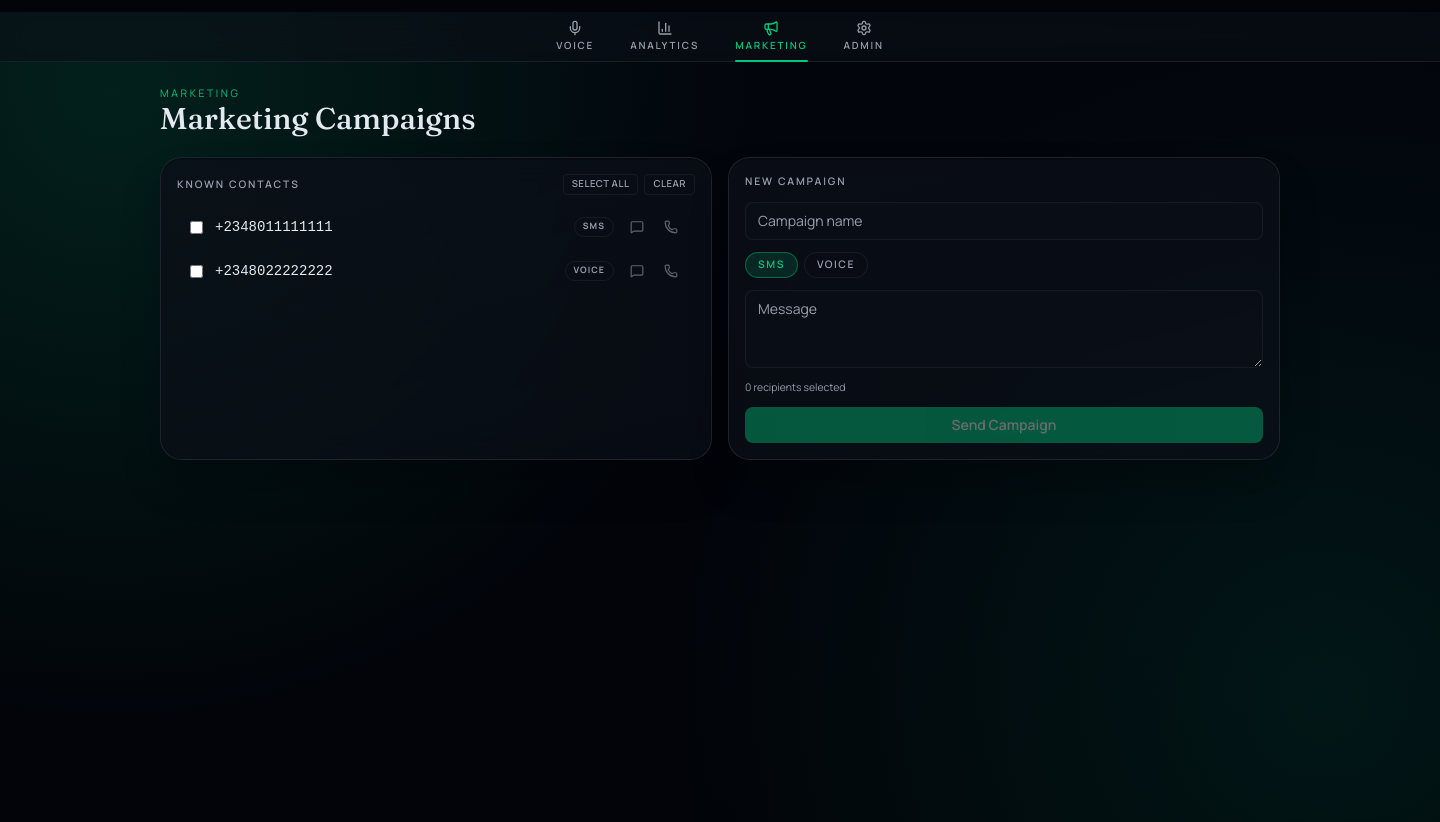
Test: MarketingDashboard › Clear deselects all contacts
Expected: the text "+2348011111111" is shown, [215,219,333,235]
What coordinates should you click on to do the following:
click the button "Select All"
I would click on:
 (601, 185)
Its box is [563,174,638,195].
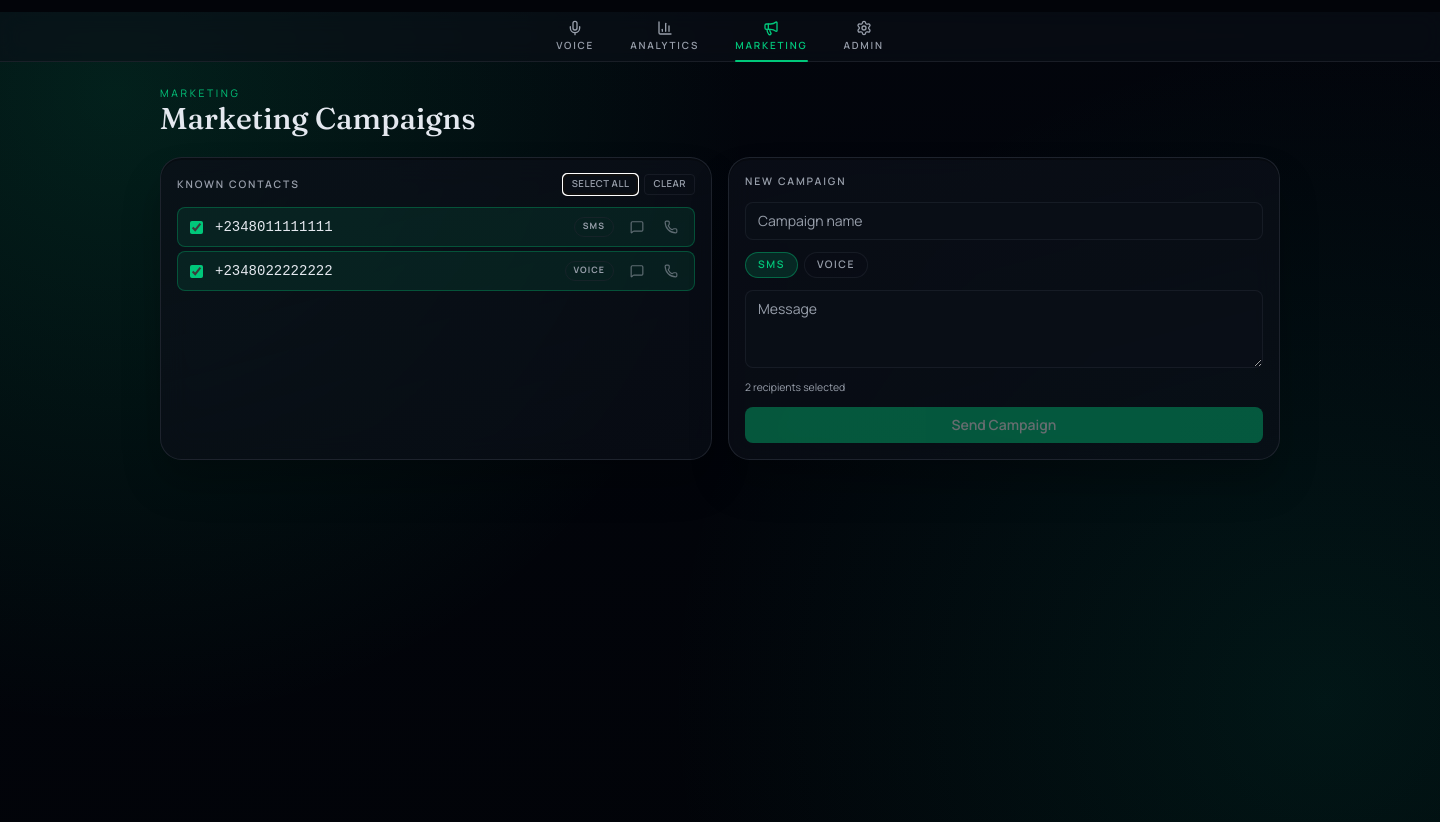
Now the text "2 recipients selected" is shown, box [745,380,845,394]
What coordinates should you click on to do the following:
click the button "Clear"
I would click on:
 (670, 185)
Its box is [644,174,695,195].
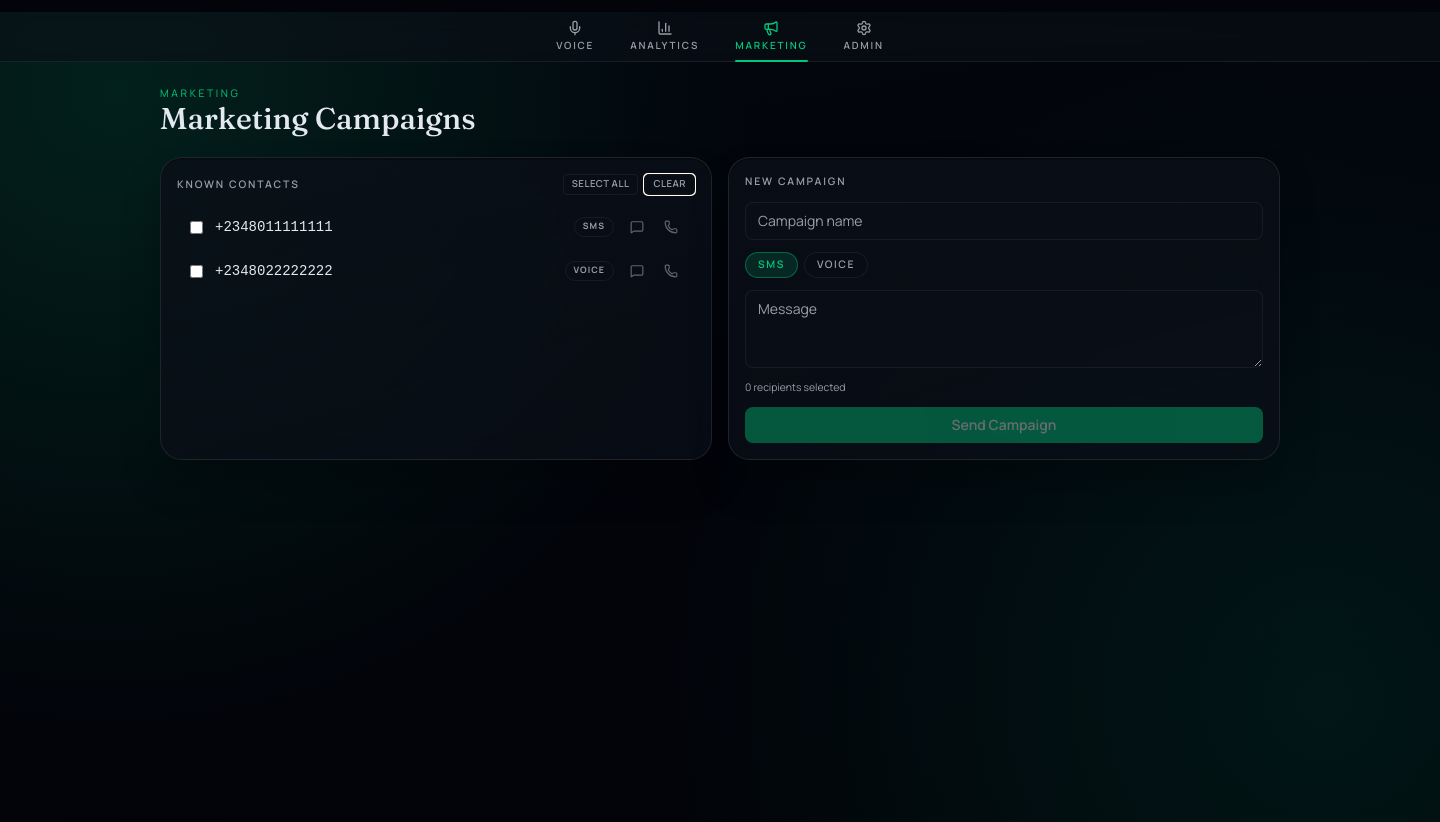
Now the text "0 recipients selected" is shown, box [745,380,846,394]
